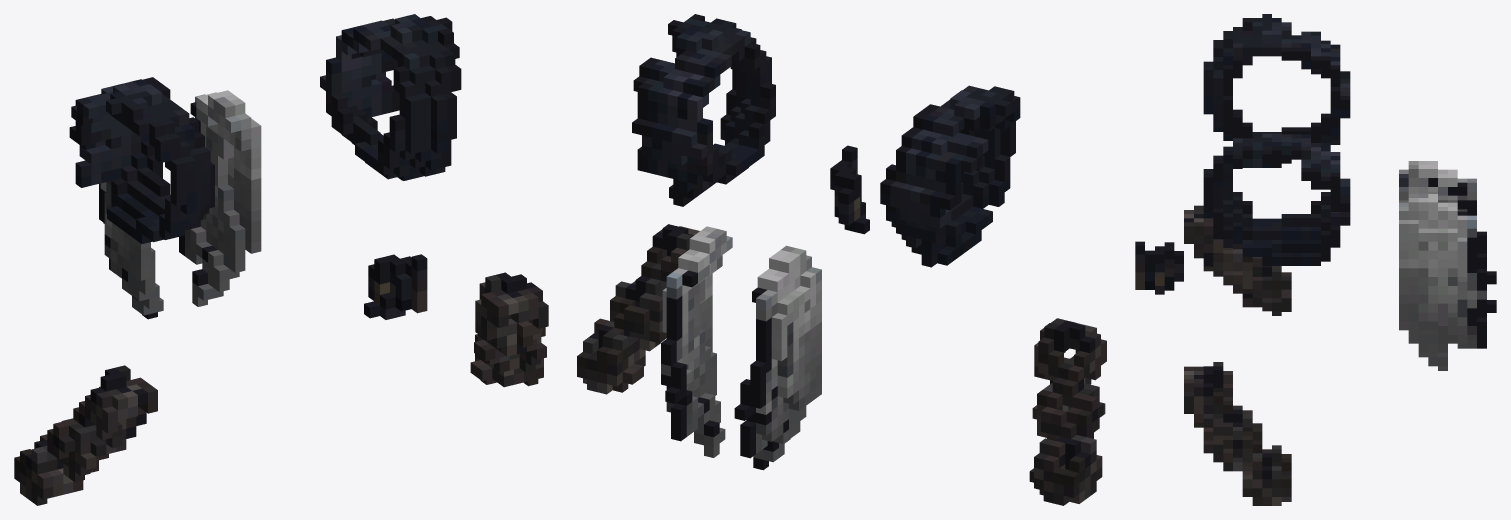
The model's file is grotesque_alpha.obj.
3 views of the same model, side by side, from view 1: azimuth 30°, elevation 25°; view 2: azimuth 150°, elevation 25°; view 3: azimuth 270°, elevation 25° (orthographic). The views are drawn at different scales.
Bounding box in the file's own units: 5 × 3.6 × 3.7.
1 material, 1 textured.
